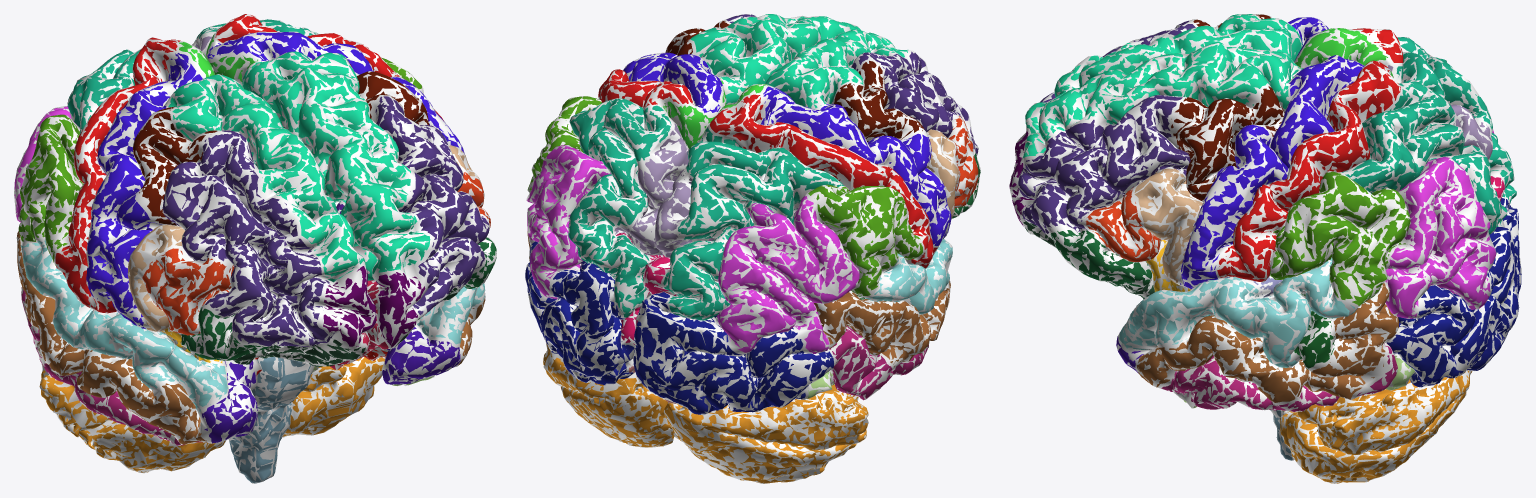
The model's file is brain-planum.glb.
3 renders of one model, left to right at view 1: azimuth 30°, elevation 25°; view 2: azimuth 150°, elevation 25°; view 3: azimuth 270°, elevation 25°, orthographic. The views are drawn at different scales.
Visible parts, largest first — view 1: __outline, desikan:right:27, desikan:left:28, desikan:right:28, desikan:right:24, desikan:left:27, desikan:right:30, desikan:right:15, desikan:right:22, desikan:right:31, aseg:right:47, aseg:midline:16 (+20 smaller); view 2: __outline, desikan:right:8, desikan:right:11, desikan:right:29, desikan:left:29, aseg:right:47, desikan:left:11, desikan:left:28, desikan:right:24, desikan:right:22, desikan:right:31, desikan:left:8 (+17 smaller); view 3: __outline, desikan:left:27, desikan:left:15, desikan:left:8, aseg:left:8, desikan:left:24, desikan:left:30, desikan:left:31, desikan:left:28, desikan:left:22, desikan:left:11, desikan:left:29 (+11 smaller).
Boxes of the visible parts, left/top/right/bottom form: __outline: left=14, top=14, right=496, bottom=483; desikan:right:27: left=162, top=130, right=335, bottom=347; desikan:left:28: left=242, top=51, right=430, bottom=280; desikan:right:28: left=166, top=74, right=365, bottom=282; desikan:right:24: left=86, top=53, right=202, bottom=328; desikan:left:27: left=375, top=96, right=489, bottom=316; desikan:right:30: left=20, top=239, right=228, bottom=424; desikan:right:15: left=17, top=231, right=207, bottom=444; desikan:right:22: left=55, top=37, right=180, bottom=313; desikan:right:31: left=18, top=114, right=83, bottom=265; aseg:right:47: left=39, top=370, right=225, bottom=472; aseg:midline:16: left=229, top=357, right=312, bottom=483; __outline: left=525, top=14, right=980, bottom=483; desikan:right:8: left=717, top=196, right=859, bottom=353; desikan:right:11: left=633, top=292, right=833, bottom=414; desikan:right:29: left=663, top=127, right=844, bottom=320; desikan:left:29: left=568, top=98, right=671, bottom=317; aseg:right:47: left=664, top=384, right=868, bottom=483; desikan:left:11: left=525, top=241, right=634, bottom=385; desikan:left:28: left=690, top=14, right=860, bottom=104; desikan:right:24: left=761, top=86, right=951, bottom=245; desikan:right:22: left=710, top=94, right=937, bottom=268; desikan:right:31: left=808, top=184, right=922, bottom=295; desikan:left:8: left=527, top=145, right=610, bottom=299; __outline: left=1009, top=14, right=1521, bottom=483; desikan:left:27: left=1018, top=95, right=1190, bottom=233; desikan:left:15: left=1137, top=283, right=1399, bottom=402; desikan:left:8: left=1385, top=157, right=1495, bottom=318; aseg:left:8: left=1280, top=370, right=1472, bottom=483; desikan:left:24: left=1180, top=55, right=1364, bottom=288; desikan:left:30: left=1119, top=258, right=1357, bottom=367; desikan:left:31: left=1269, top=171, right=1410, bottom=305; desikan:left:28: left=1023, top=42, right=1302, bottom=157; desikan:left:22: left=1217, top=60, right=1400, bottom=281; desikan:left:11: left=1387, top=227, right=1519, bottom=387; desikan:left:29: left=1342, top=80, right=1507, bottom=234.
Bounding box in the file's own units: 128 × 133 × 147.
